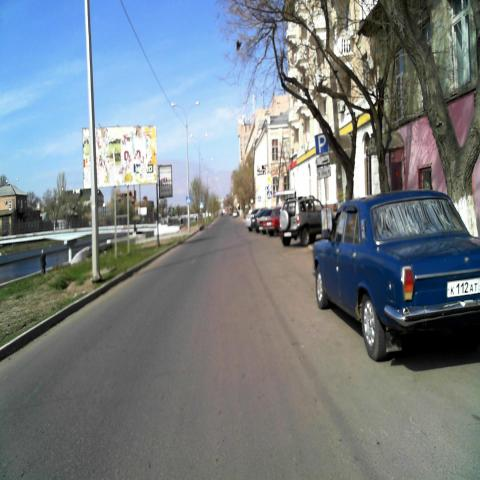8_6_4: (316, 155, 330, 166)
